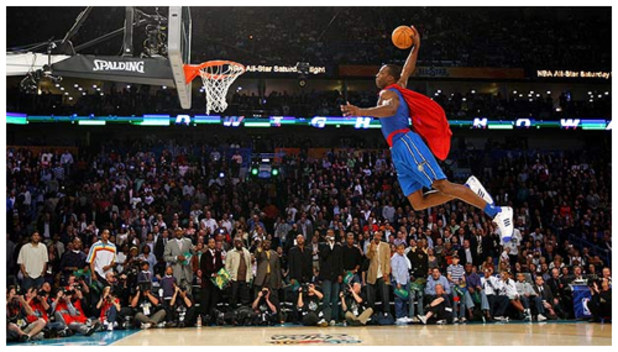ball: (384, 21, 418, 53)
basket: (182, 48, 249, 118)
shoot: (335, 18, 533, 253)
